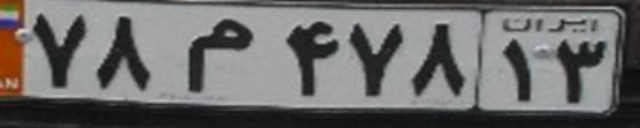1: (498, 37, 536, 101)
3: (551, 36, 608, 104)
4: (287, 19, 342, 96)
7: (30, 11, 87, 88), (346, 21, 401, 96)
8: (97, 14, 153, 90), (411, 21, 466, 96)
mim: (181, 17, 257, 93)
